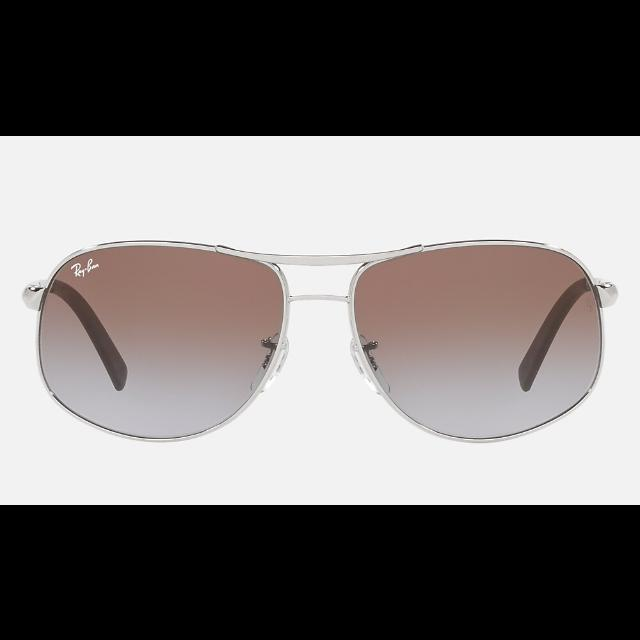Sunglasses: (25, 236, 619, 440)
